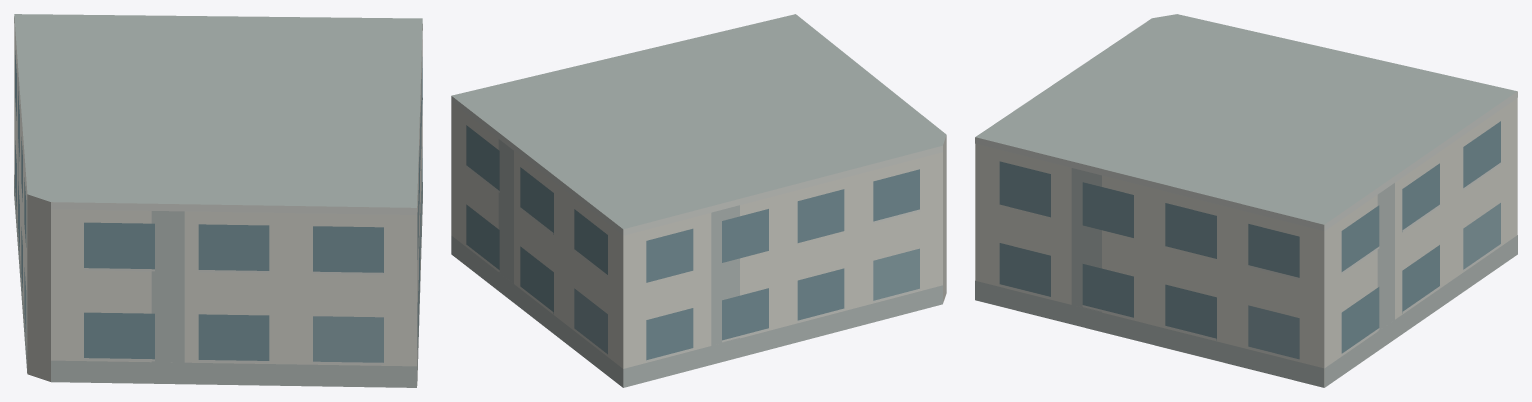
The model's file is survey-upis-32847872.glb.
3 renders of one model, left to right at view 1: azimuth 30°, elevation 25°; view 2: azimuth 150°, elevation 25°; view 3: azimuth 270°, elevation 25°, orthographic. The views are drawn at different scales.
Parts seen in each view (by area): view 1: survey-upis-32847872.tmp; view 2: survey-upis-32847872.tmp; view 3: survey-upis-32847872.tmp.
Part boxes in pixels (<box>): survey-upis-32847872.tmp: <box>14,14,422,387</box>; survey-upis-32847872.tmp: <box>451,14,946,387</box>; survey-upis-32847872.tmp: <box>975,14,1517,387</box>.
Bounding box in the file's own units: 16.92 × 6.1 × 18.4.
